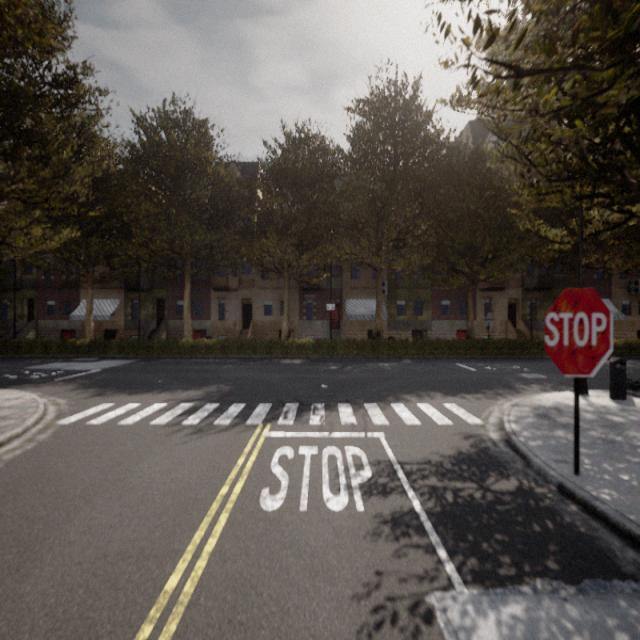stop sign: (540, 282, 615, 380), (544, 308, 607, 349)
